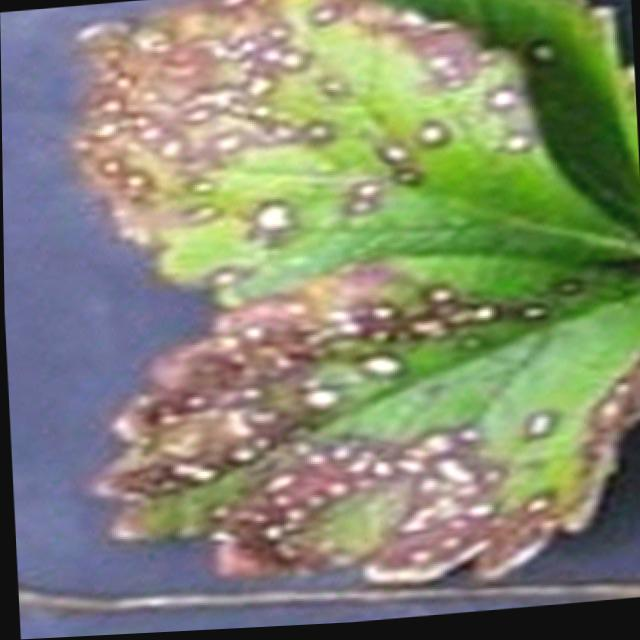Leaf Spot: (76, 258, 640, 594), (62, 0, 640, 315), (377, 0, 640, 238)
